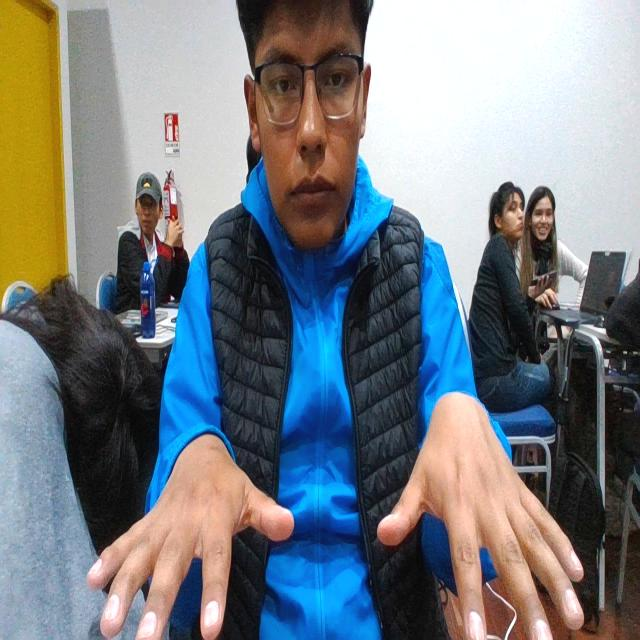calm: (84, 417, 594, 640)
